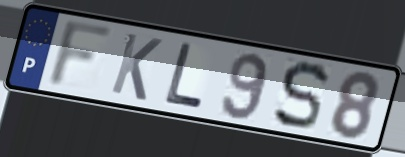8: (328, 69, 382, 142)
9: (219, 51, 270, 121)
F: (42, 18, 119, 92)
K: (108, 30, 165, 104)
L: (161, 40, 206, 113)
S: (271, 60, 331, 133)
